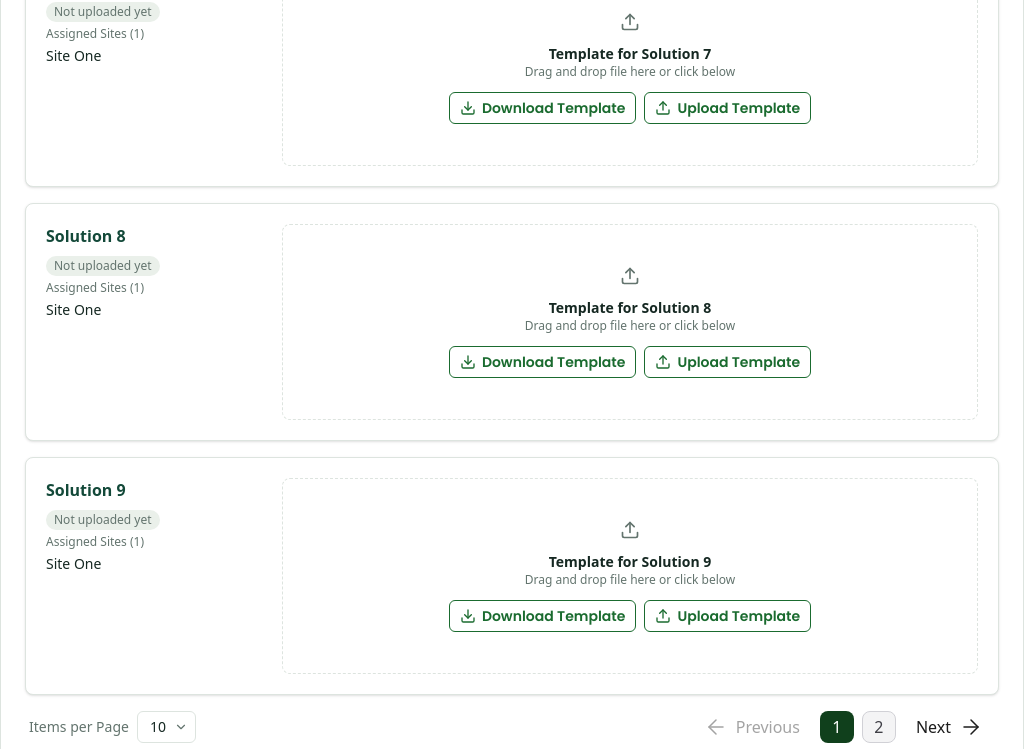
Test: TemplateStep › moves to the next and previous page via the pagination controls
(page scrolled)
Click the button "Next".
click(949, 727)  # box [904,711,995,743]
(page scrolled)
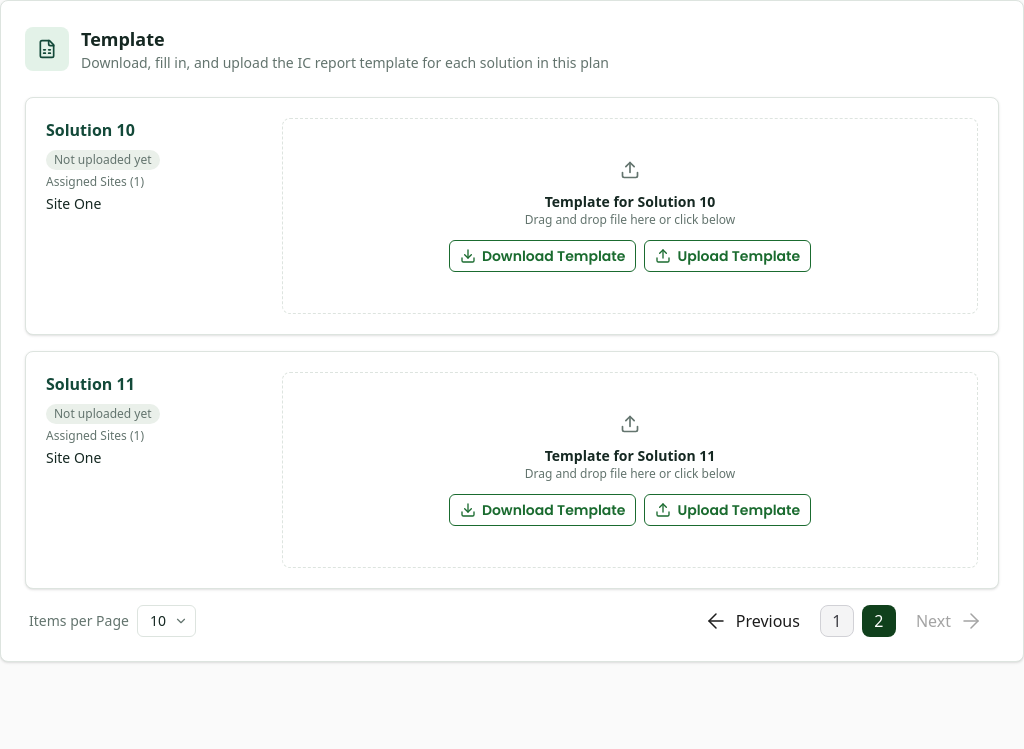
Expected: the text "Solution 11" is shown, [46,373,135,395]
Click the button "Previous".
click(752, 621)  # box [692,605,812,637]
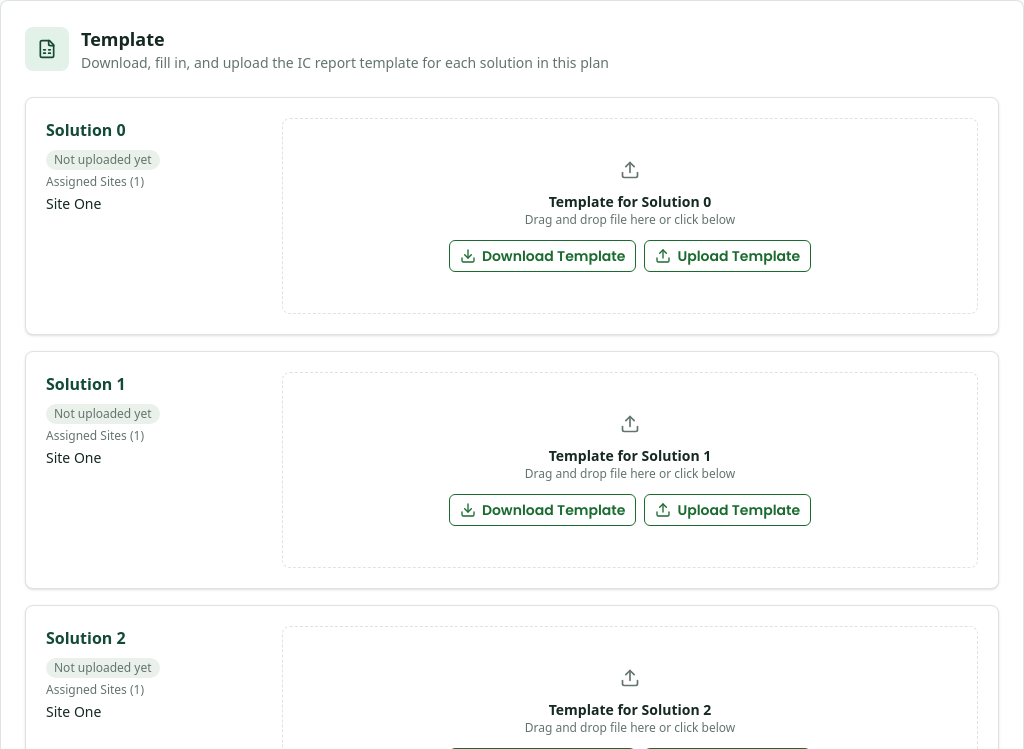
Expected: the text "Solution 0" is shown, [46,119,126,141]
